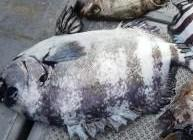fish: (0, 22, 192, 139)
